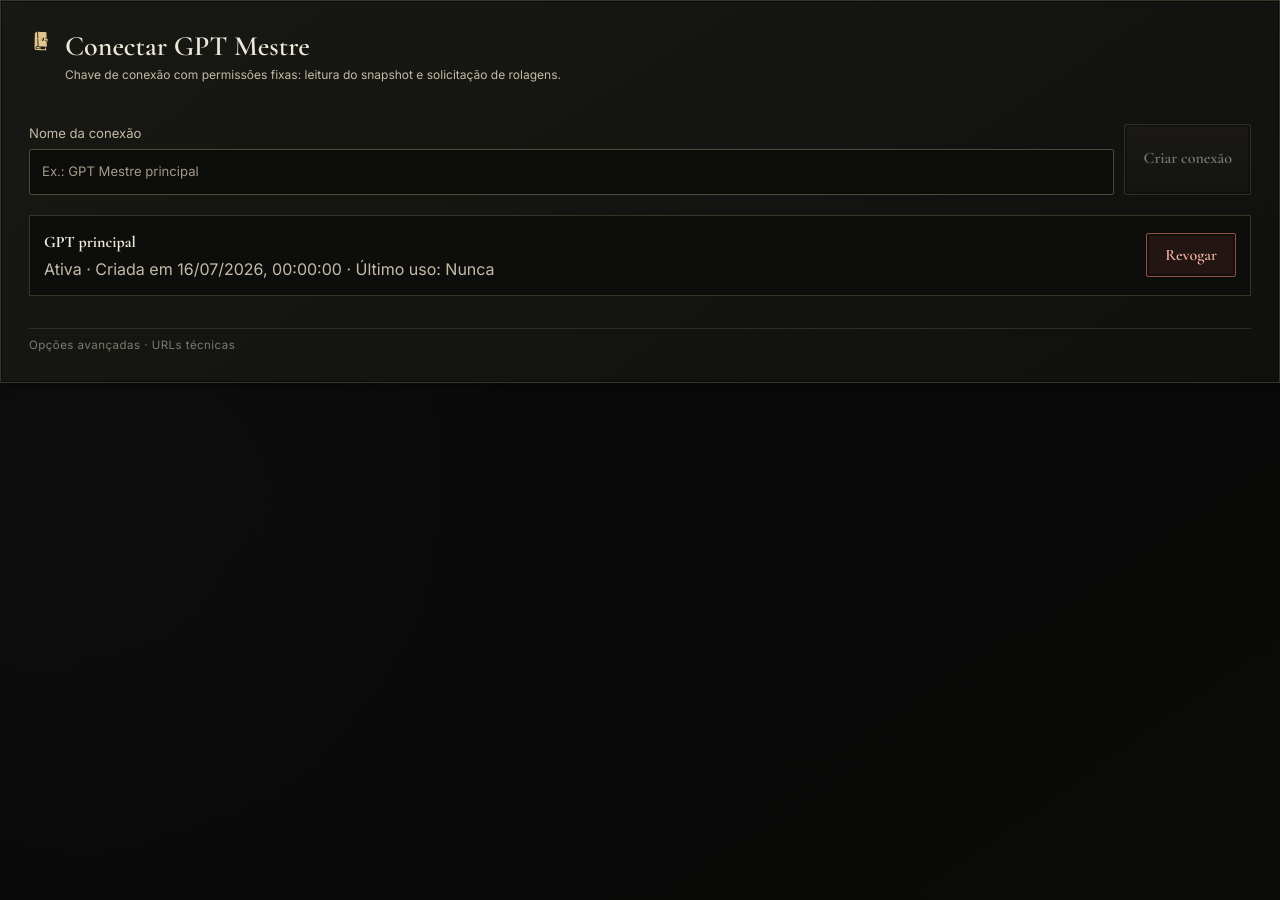
Scenario: GptConnectionsPanel › exibe erro da RPC de revogacao
This screenshot has width=1280, height=900.
Expected: the text "GPT principal" is shown, x1=44 y1=232 x2=136 y2=252
Step 1. Click the button "Revogar" → [1191, 255], box x1=1146 y1=233 x2=1236 y2=277
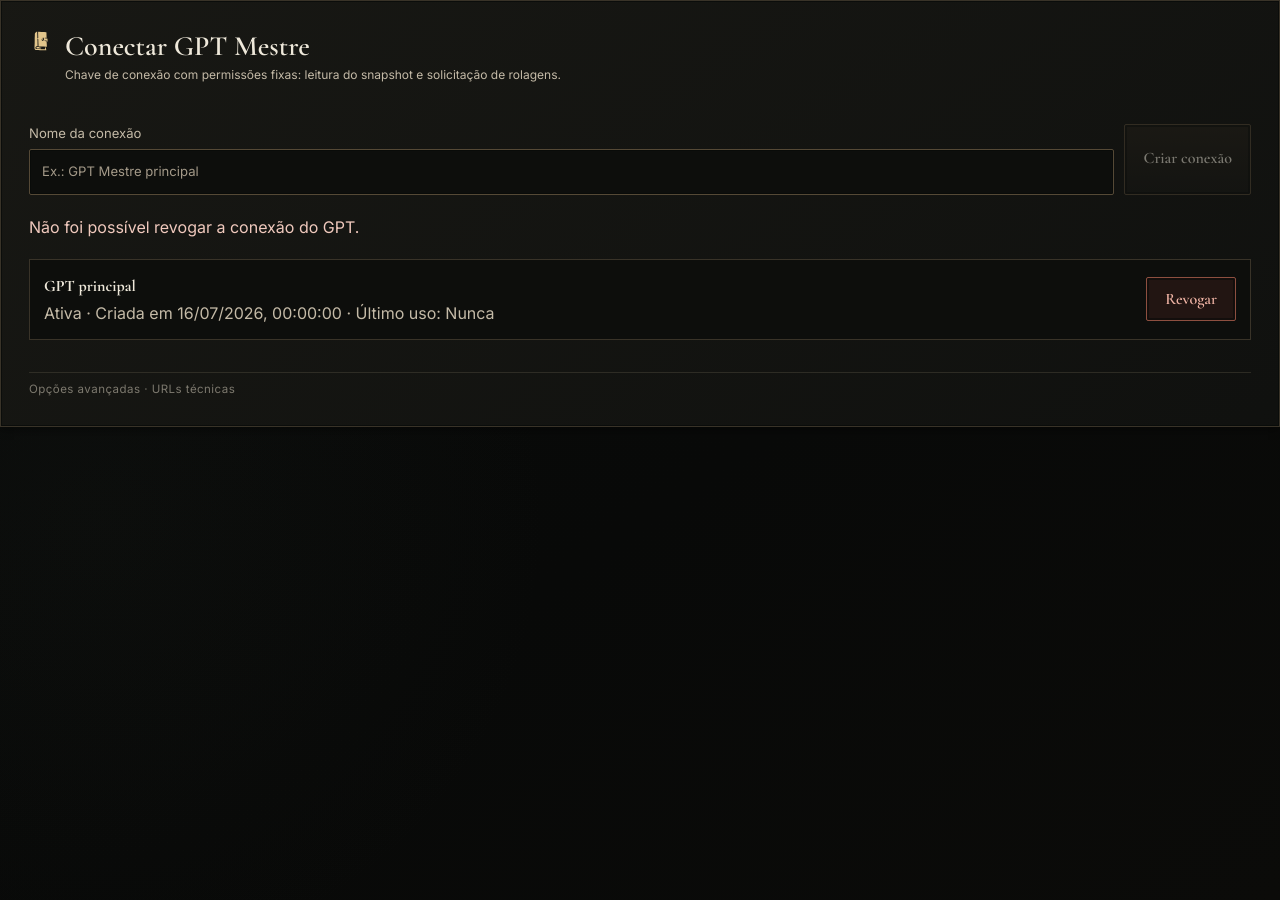
Now the text "Não foi possível revogar a conexão do GPT." is shown, box x1=29 y1=217 x2=359 y2=237
